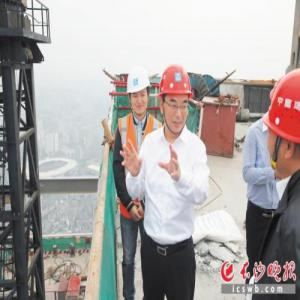red: (267, 69, 300, 176), (159, 64, 192, 137)
white: (127, 70, 152, 117)
